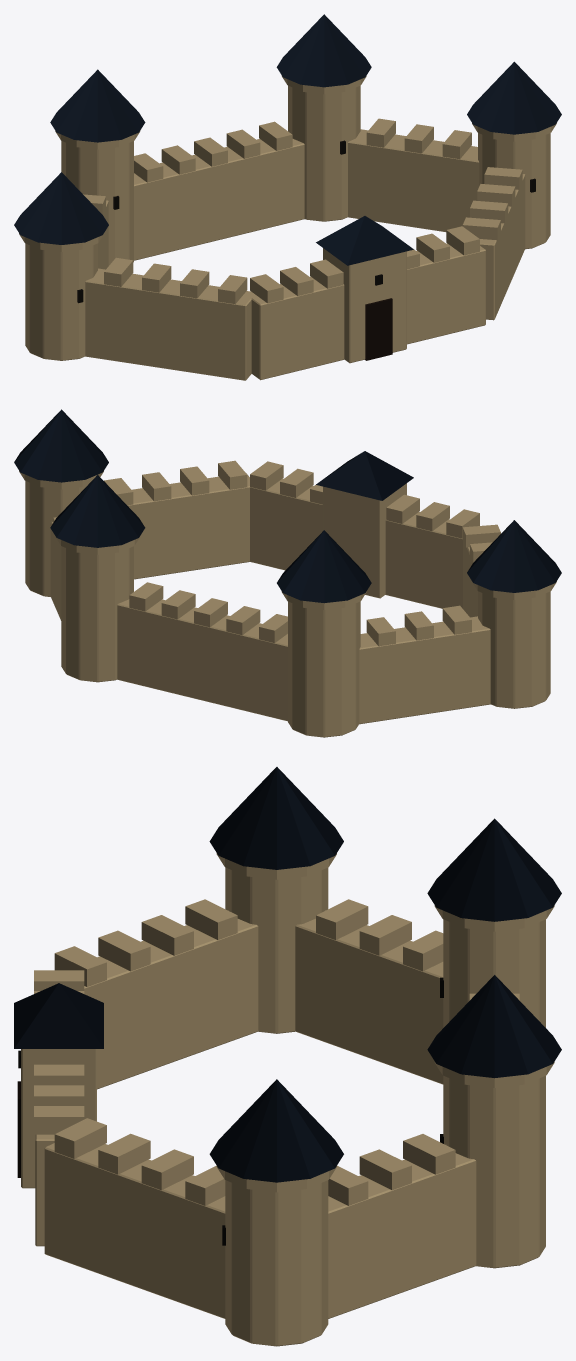
The model's file is walls_2.obj.
3 views of the same model, one above another, from view 1: azimuth 30°, elevation 25°; view 2: azimuth 150°, elevation 25°; view 3: azimuth 270°, elevation 25° (orthographic). The views are drawn at different scales.
Parts seen in each view (by area): view 1: core_stone, core_team, core_wood_dark; view 2: core_stone, core_team; view 3: core_stone, core_team.
Part boxes in pixels (bbox=[...]): core_stone: bbox=[19, 75, 556, 380]; core_team: bbox=[14, 14, 561, 265]; core_wood_dark: bbox=[365, 298, 392, 360]; core_stone: bbox=[19, 460, 556, 737]; core_team: bbox=[14, 409, 561, 603]; core_stone: bbox=[21, 853, 554, 1346]; core_team: bbox=[14, 767, 561, 1182].
Bounding box in the file's own units: 1.84 × 0.6339 × 1.16.
